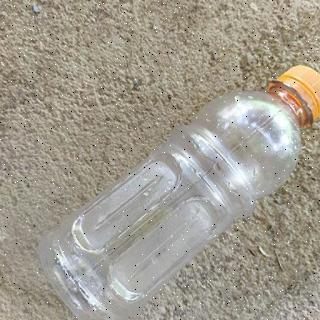Plastic-bottle: (36, 63, 320, 320)
